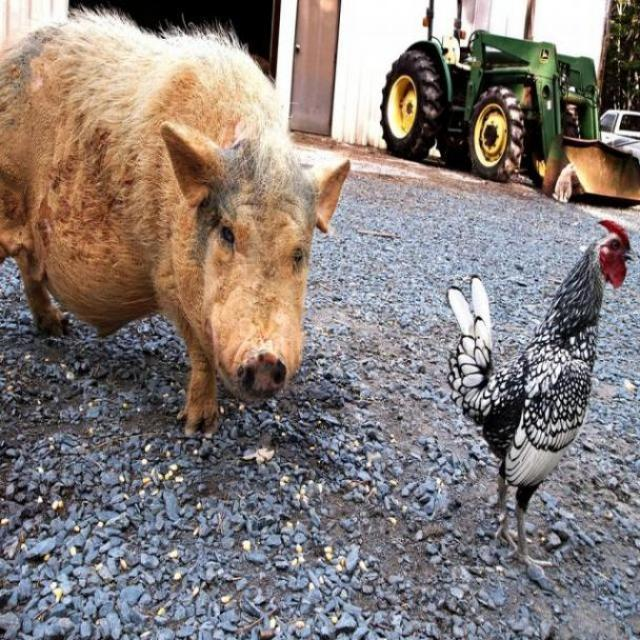Chicken: (452, 206, 622, 551)
